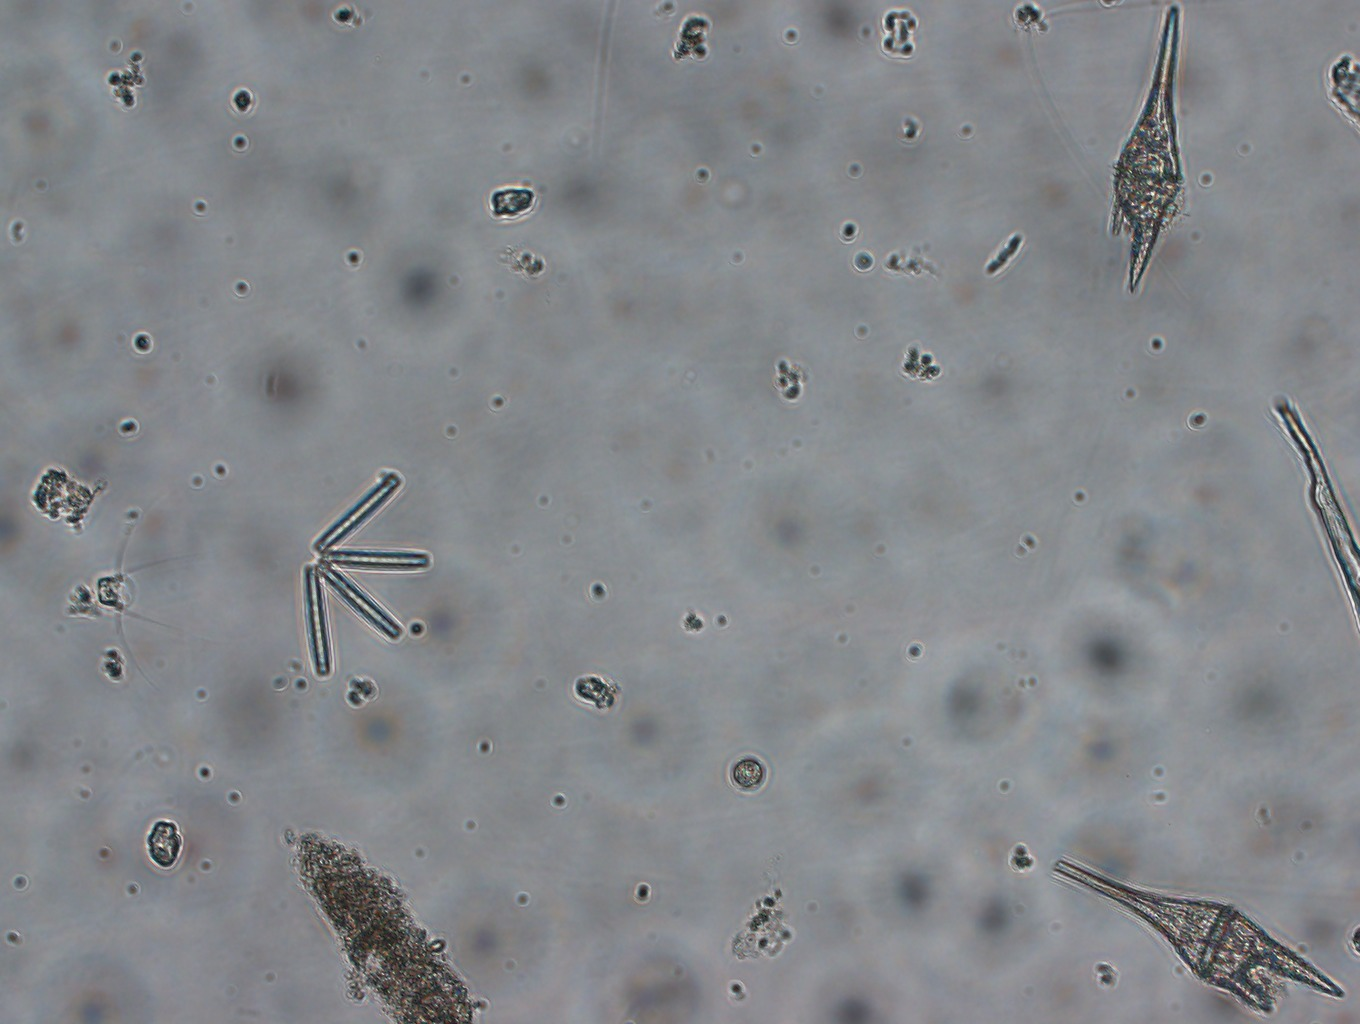ceratium furca: (1045, 848, 1349, 1016), (1100, 5, 1196, 291)
chaetoceros: (89, 499, 184, 681)
thalassionema nitzschioides: (281, 463, 432, 680)
